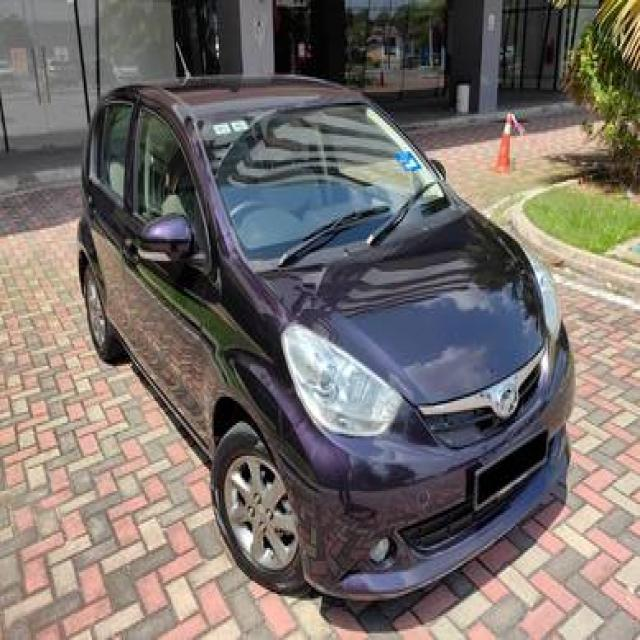PeroduaMyvi: (74, 70, 576, 603)
